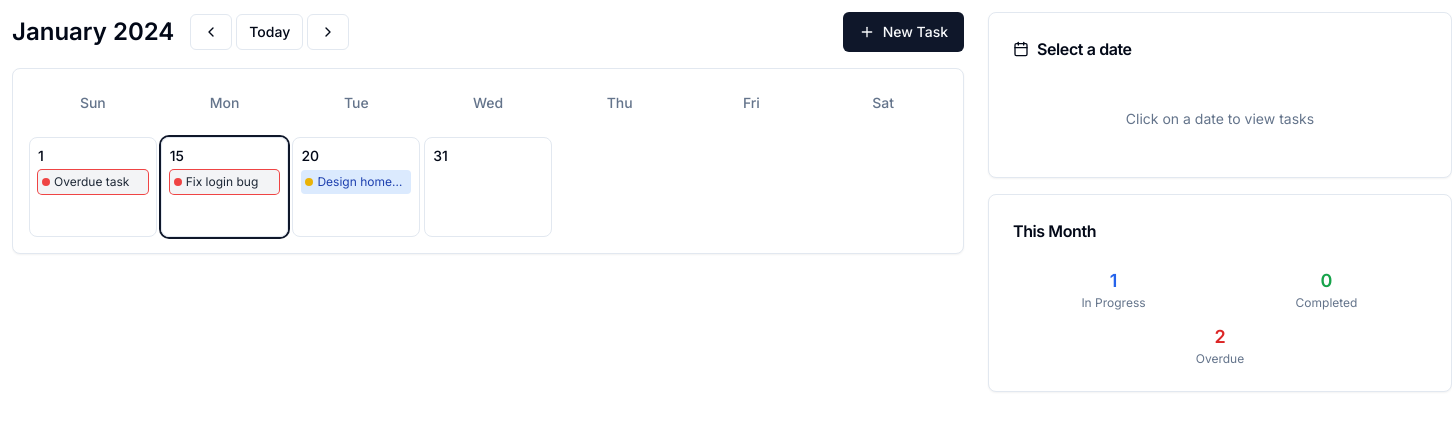
Test: CalendarView › should select date when clicking on calendar day
The image size is (1452, 443).
Note: Find a day with the date 15 (which has a task)
Click the text "15" at (177, 156), box [170,147,184,164]
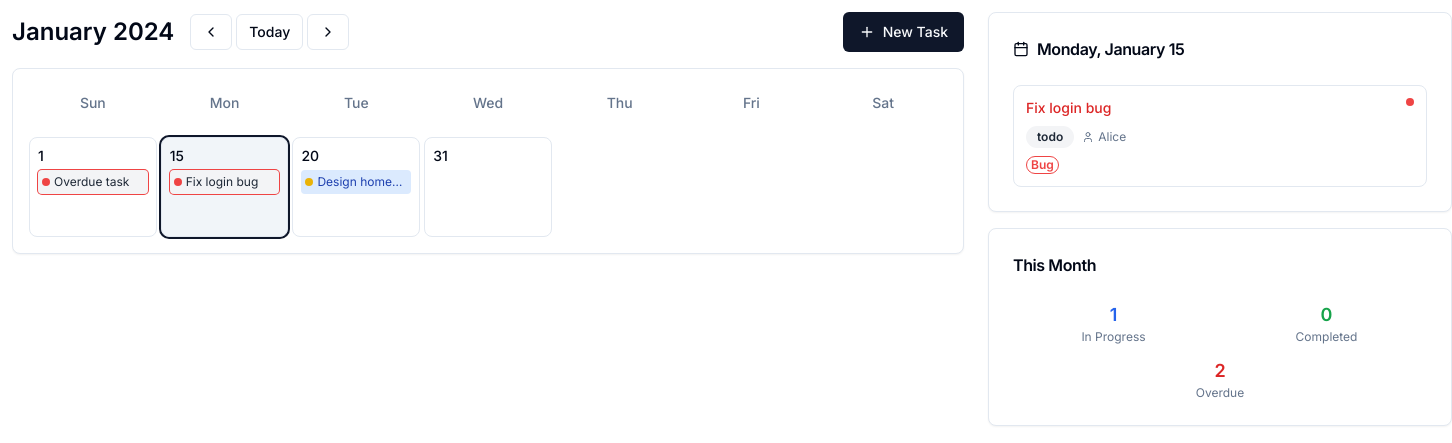
Result: the heading "Monday, January 15" is shown at [1013,39,1184,59]
